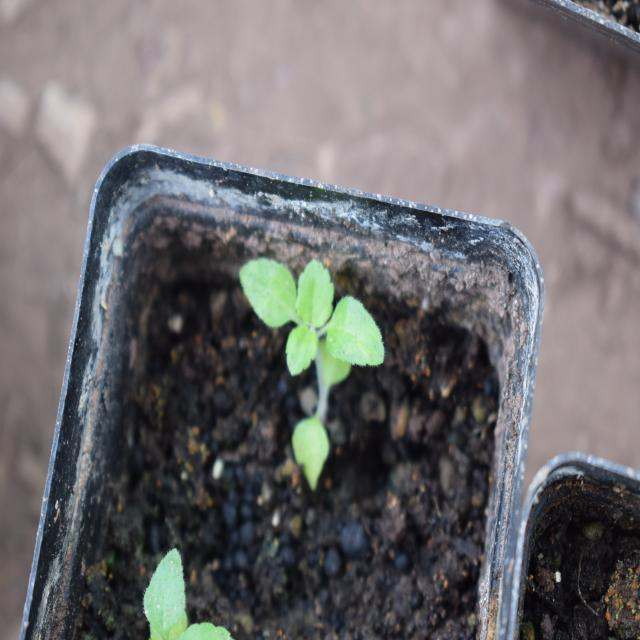billygoat_weed: (255, 255, 387, 428)
